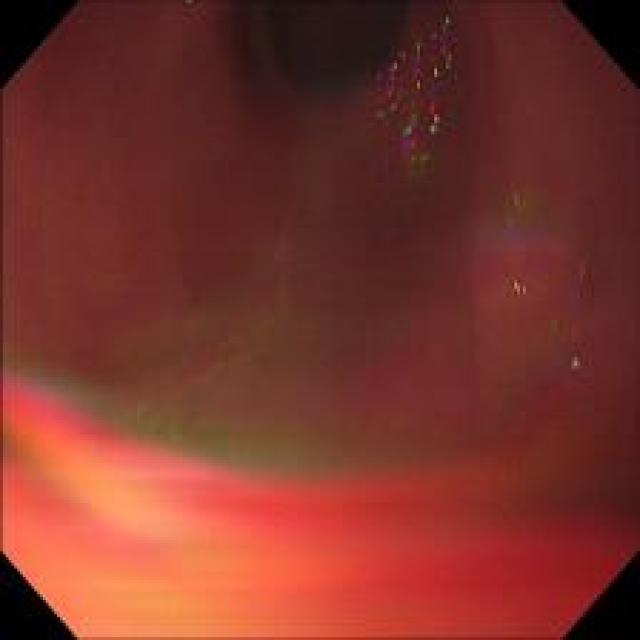color misalignment: (6, 324, 634, 631), (369, 9, 469, 194), (555, 258, 601, 394), (491, 182, 540, 309)
contrast: (232, 6, 450, 190)
